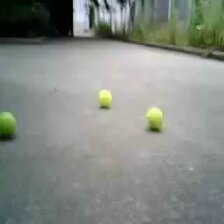tennis: (1, 111, 17, 138), (145, 106, 164, 128), (98, 89, 112, 106)
